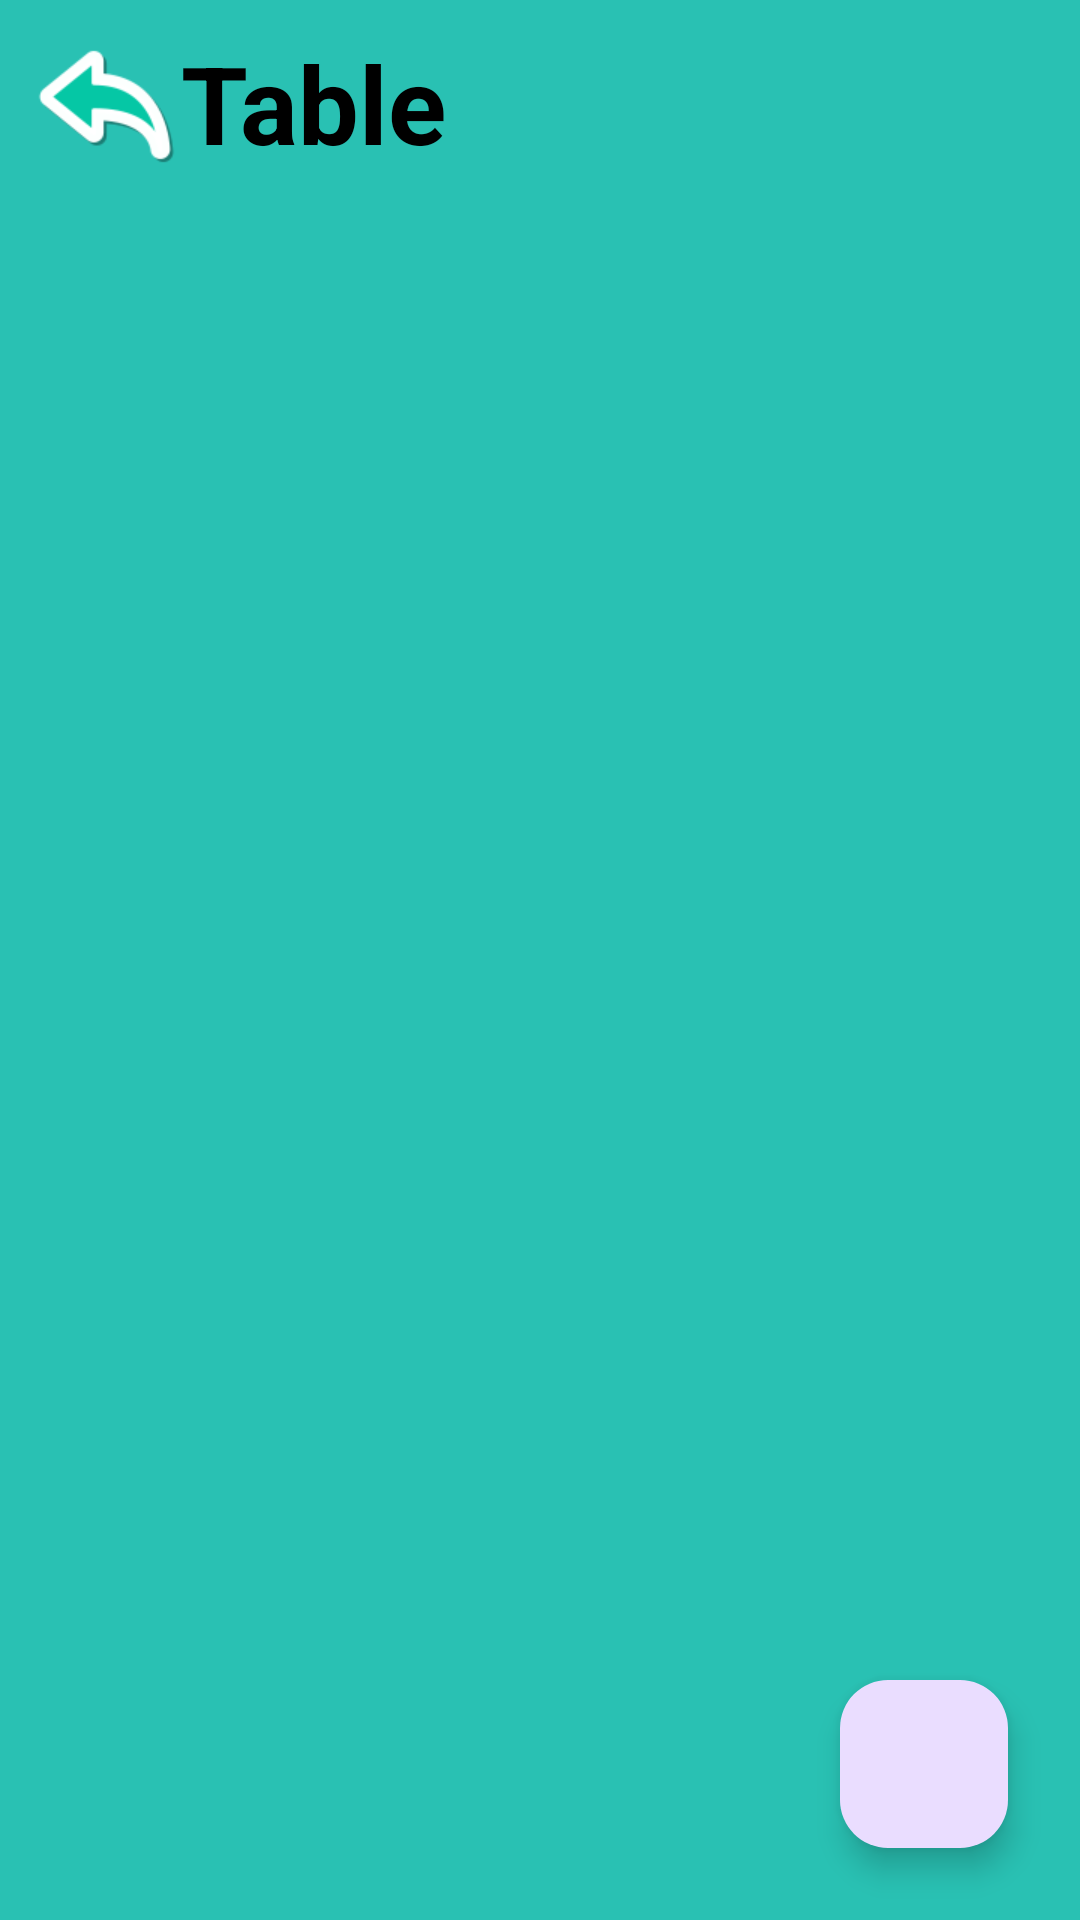

Icons on this 1080*1920 Android screen, each with the point to tap as (x,y):
back: (106,106)
